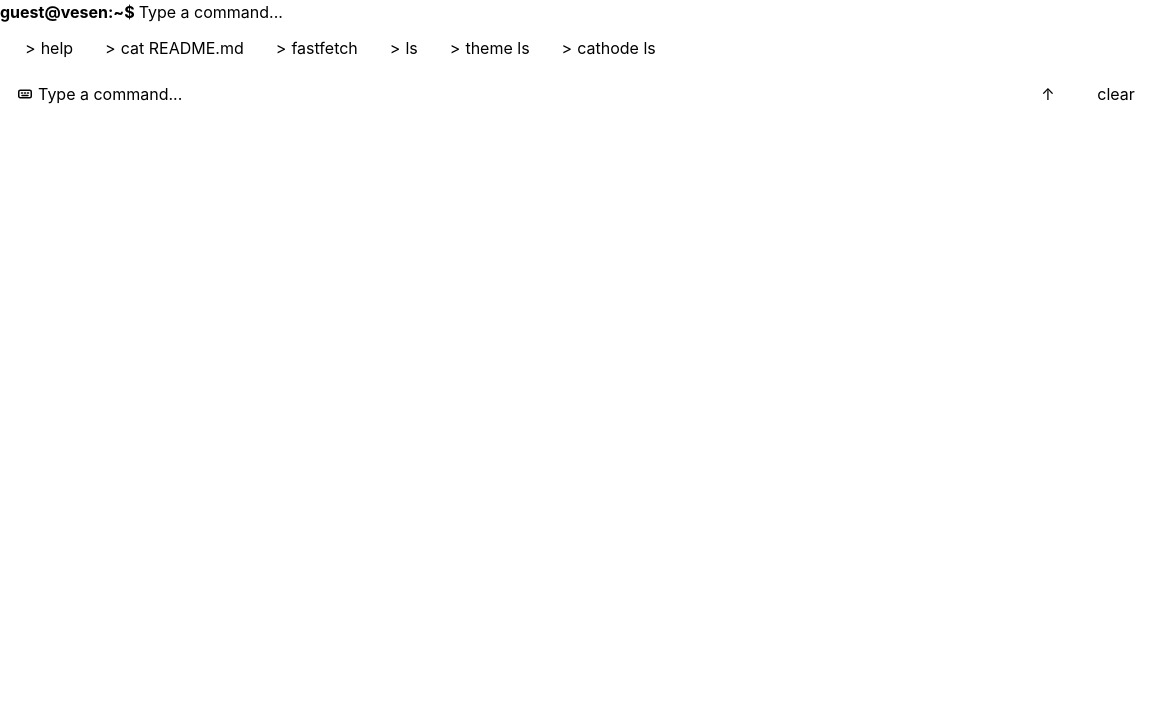
it: Dock › gives focus back to the ↑ key when the sheet closes, if the prompt did not have it
This screenshot has width=1152, height=720.
Press the mouse on the button named "Previous command (hold for history)" at coordinates (1048, 94), box 1016,72 -> 1080,116
Wait 500 ms
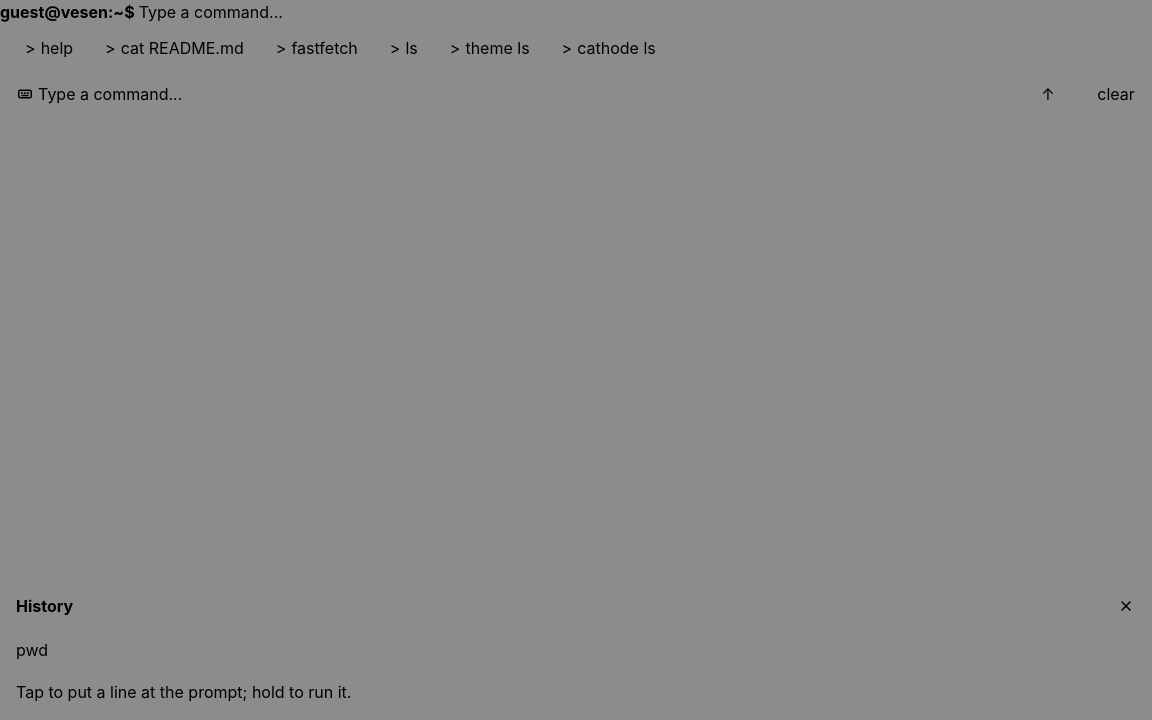
Press Escape in the dialog "History", box 0,572 -> 1151,719
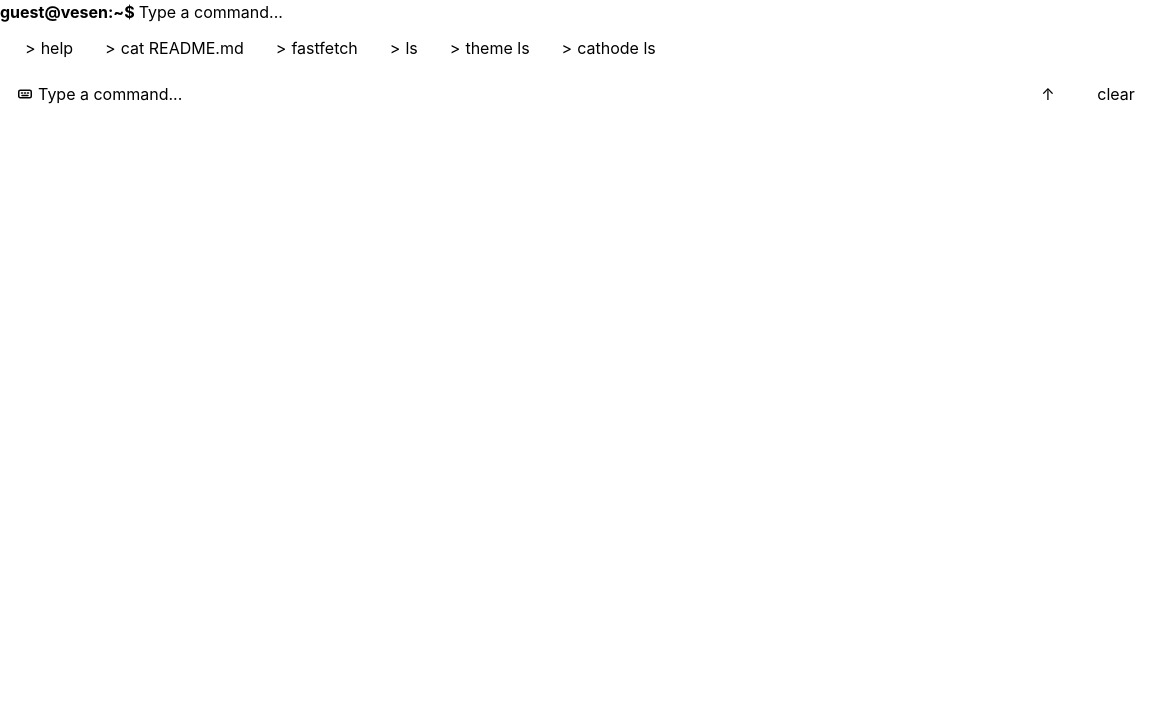
Result: the dialog is gone
